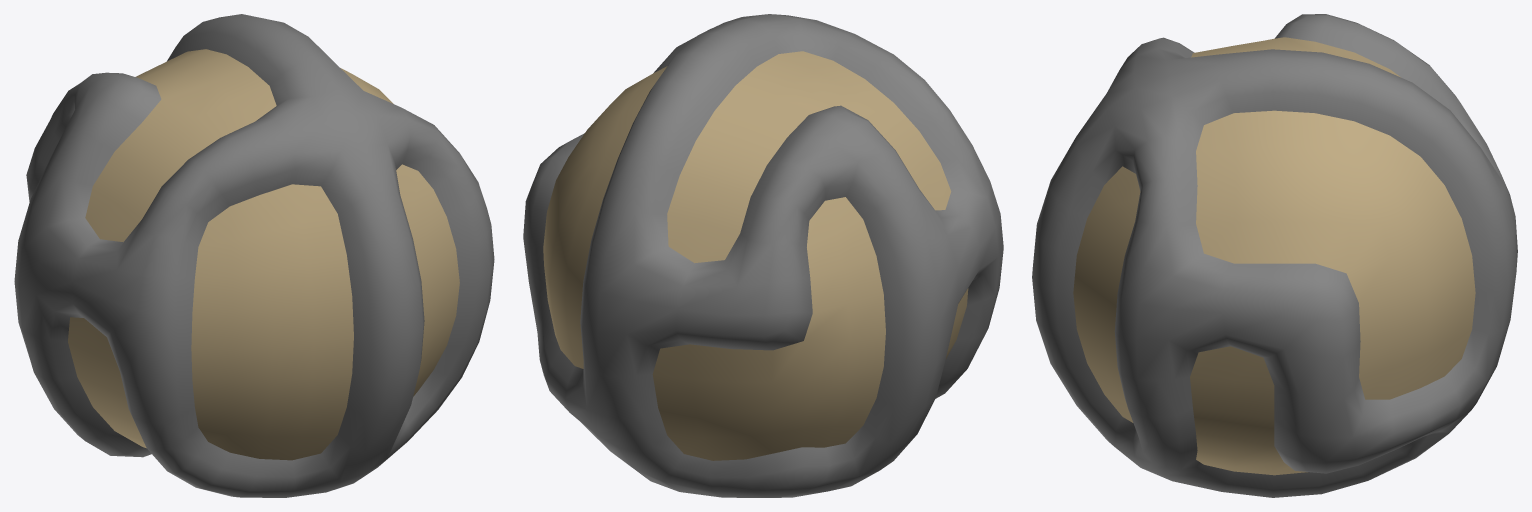
Rendered from creatureGlob.fbx.
3 renders of one model, left to right at view 1: azimuth 30°, elevation 25°; view 2: azimuth 150°, elevation 25°; view 3: azimuth 270°, elevation 25°, orthographic.
Visible parts, largest first — view 1: Box001; view 2: Box001; view 3: Box001.
Boxes of the visible parts, x1,y1,x2,y2 form: Box001: [14, 14, 494, 497]; Box001: [523, 14, 1003, 497]; Box001: [1032, 14, 1517, 497].
Size of the model in its own units: 29.2 by 28.99 by 29.19.
